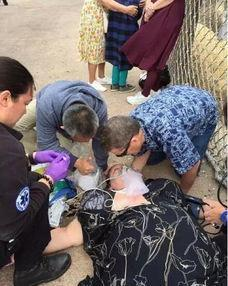Fall-Detected: (52, 152, 226, 286)
